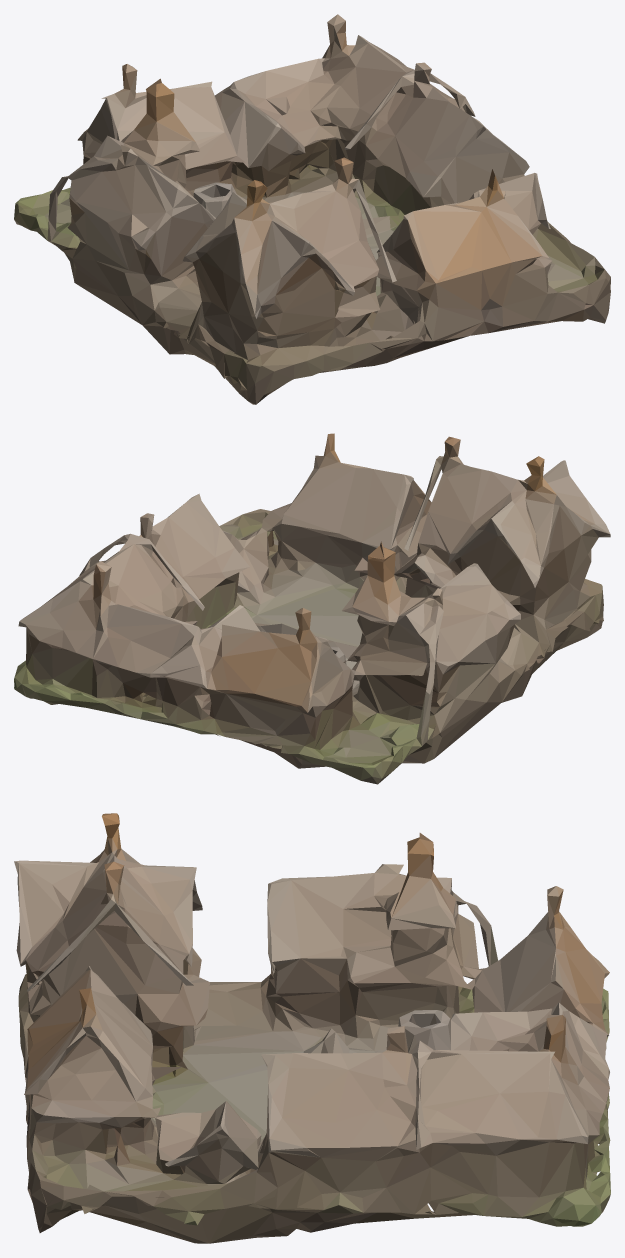
Rendered from human_town.glb.
The picture shows the model from 3 angles, top to bottom: view 1: azimuth 30°, elevation 25°; view 2: azimuth 150°, elevation 25°; view 3: azimuth 270°, elevation 25°; orthographic projection. The views are drawn at different scales.
Visible parts, largest first — view 1: geometry_0; view 2: geometry_0; view 3: geometry_0.
Boxes of the visible parts, x1=… form: geometry_0: x1=14, y1=14, x2=610, y2=404; geometry_0: x1=14, y1=433, x2=610, y2=784; geometry_0: x1=14, y1=813, x2=610, y2=1243.
Size of the model in its own units: 1.74 by 0.846 by 1.89.
